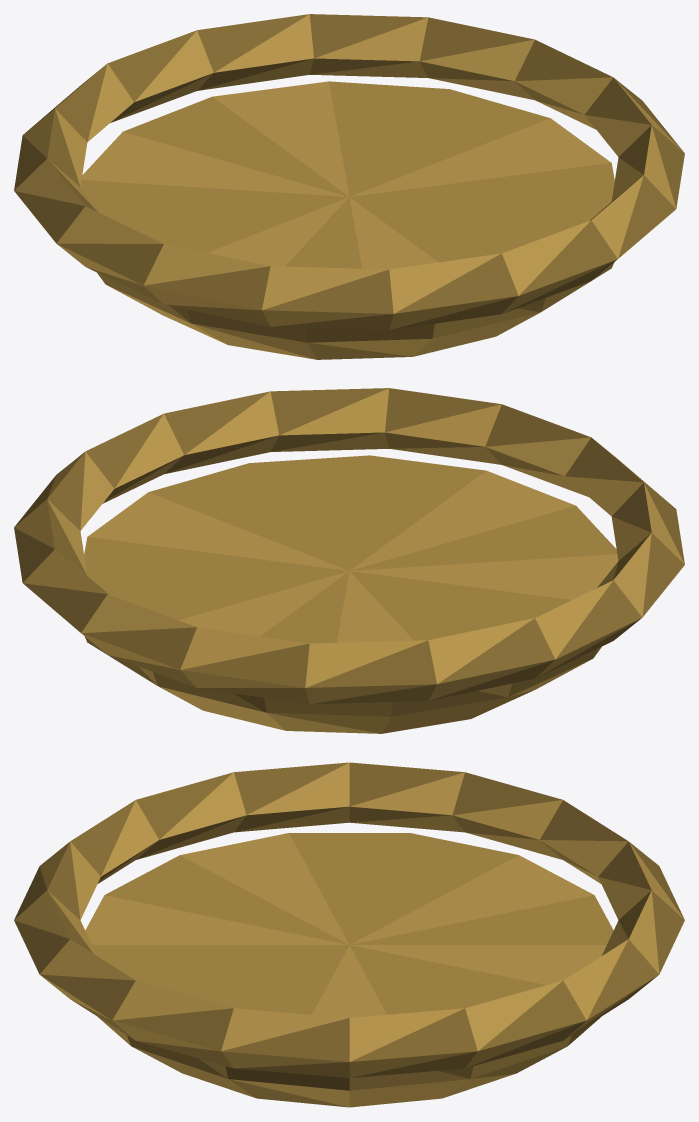
The model's file is nest-cradle.glb.
3 views of the same model, one above another, from view 1: azimuth 30°, elevation 25°; view 2: azimuth 150°, elevation 25°; view 3: azimuth 270°, elevation 25° (orthographic).
Size of the model in its own units: 2.22 by 0.61 by 2.22.
